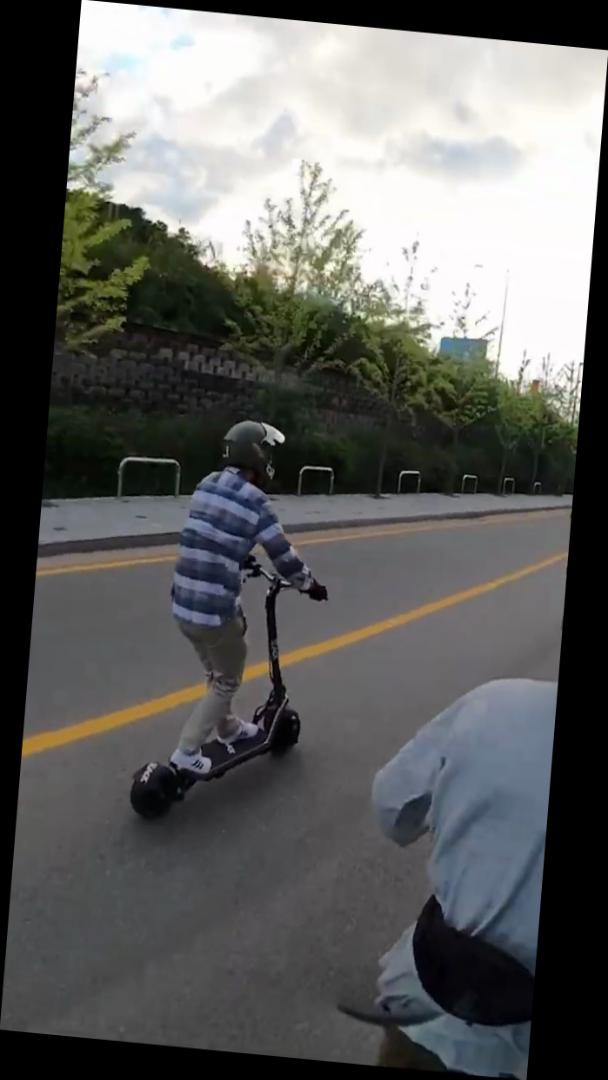helmet: (124, 404, 346, 844)
